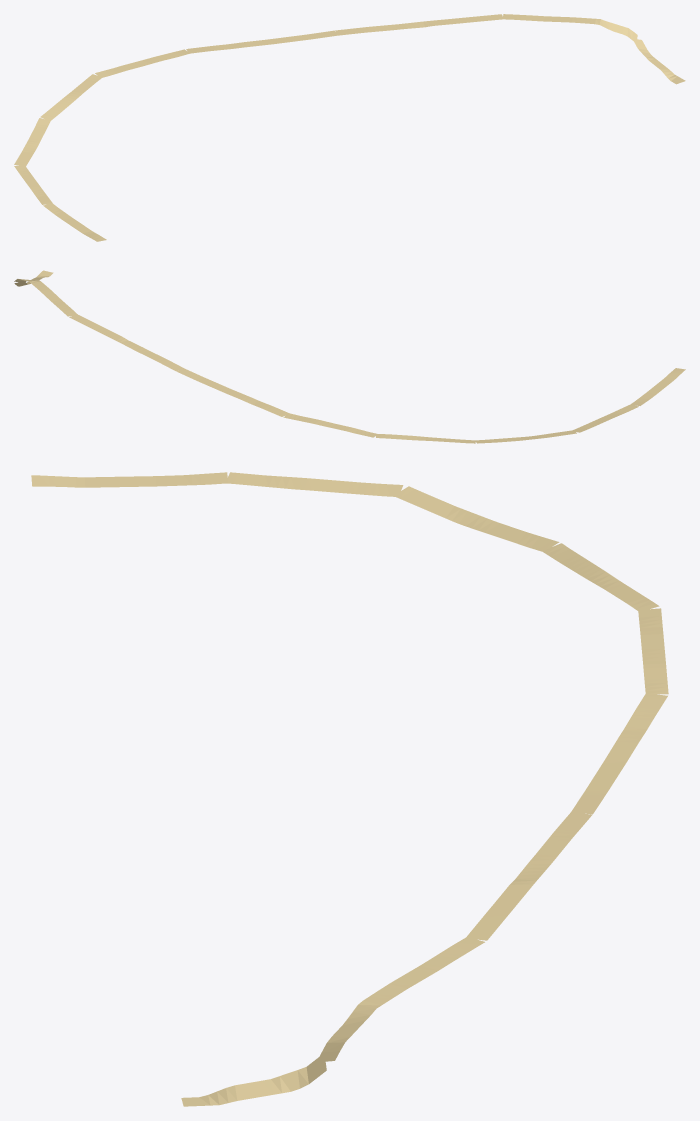
File: Trail_14.glb
3 renders of one model, top to bottom at view 1: azimuth 30°, elevation 25°; view 2: azimuth 150°, elevation 25°; view 3: azimuth 270°, elevation 25°, orthographic. The views are drawn at different scales.
Parts seen in each view (by area): view 1: Trail_14; view 2: Trail_14; view 3: Trail_14.
Boxes of the visible parts, left/top/right/bottom form: Trail_14: left=14, top=14, right=685, bottom=241; Trail_14: left=14, top=270, right=685, bottom=443; Trail_14: left=31, top=472, right=668, bottom=1106.
Size of the model in its own units: 107 by 5.72 by 48.64.
